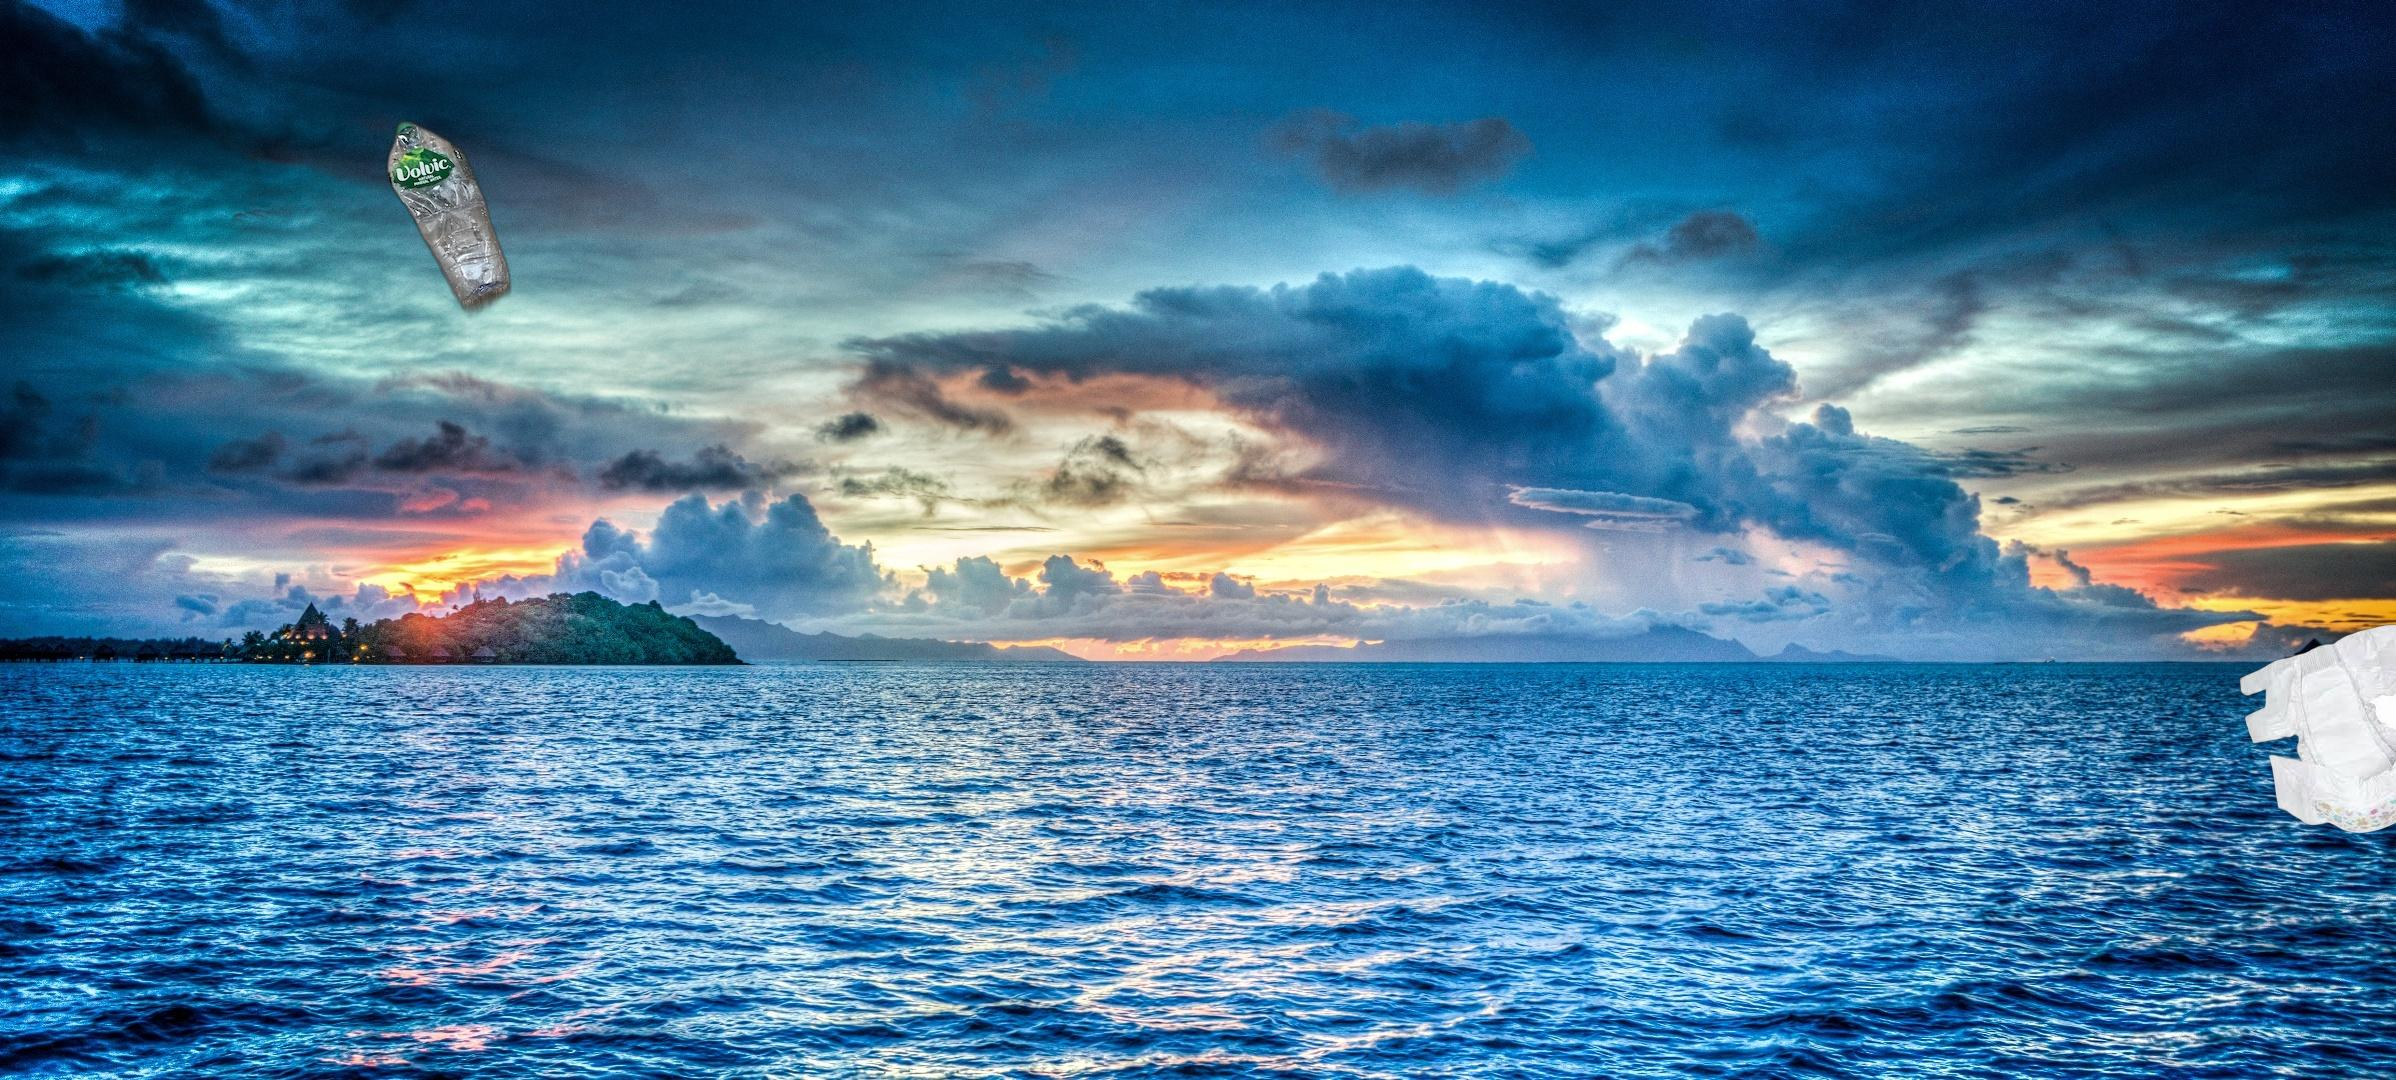plastic-bottles: (384, 115, 515, 322)
trash: (2237, 622, 2396, 840)
